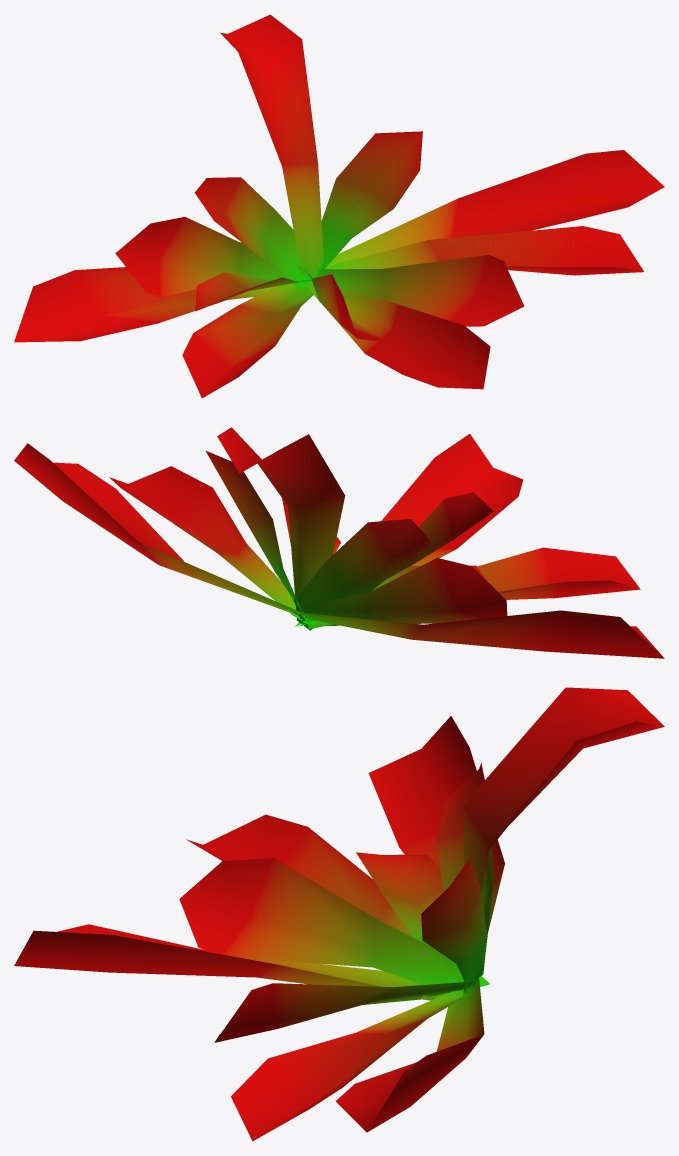
File: Var6_LOD2.fbx
3 renders of one model, top to bottom at view 1: azimuth 30°, elevation 25°; view 2: azimuth 150°, elevation 25°; view 3: azimuth 270°, elevation 25°, orthographic. The views are drawn at different scales.
Visible parts, largest first — view 1: _buxi_Var6_LOD2; view 2: _buxi_Var6_LOD2; view 3: _buxi_Var6_LOD2.
Boxes of the visible parts, <box> form: _buxi_Var6_LOD2: <box>14,14,664,398</box>; _buxi_Var6_LOD2: <box>14,427,664,658</box>; _buxi_Var6_LOD2: <box>14,687,664,1141</box>.
Bounding box in the file's own units: 39.96 × 13.62 × 27.09.
